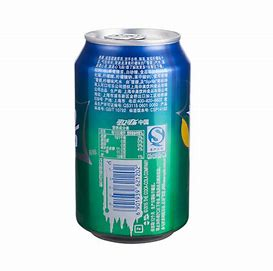Sprite: (72, 26, 192, 246)
